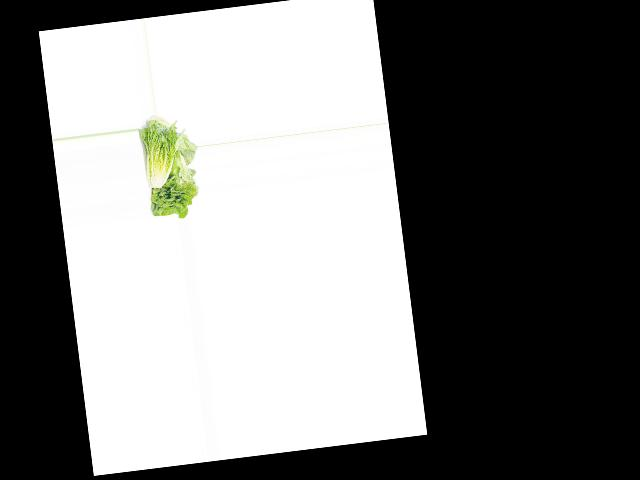lettuce: (141, 153, 201, 220)
